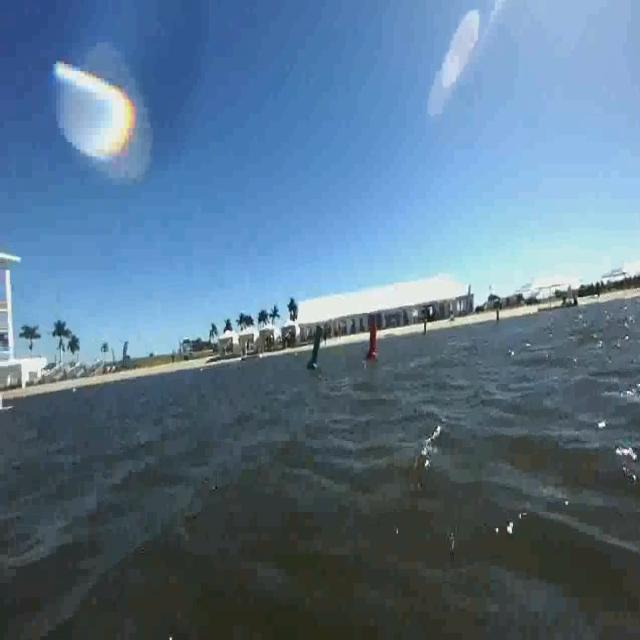green-column-buoy: (307, 324, 325, 370)
red-column-buoy: (364, 317, 380, 361)
